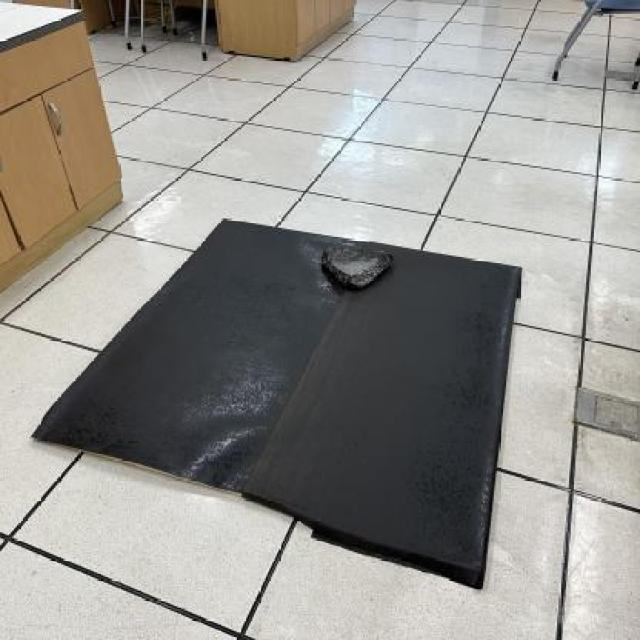Road Debris: (324, 246, 398, 263)
